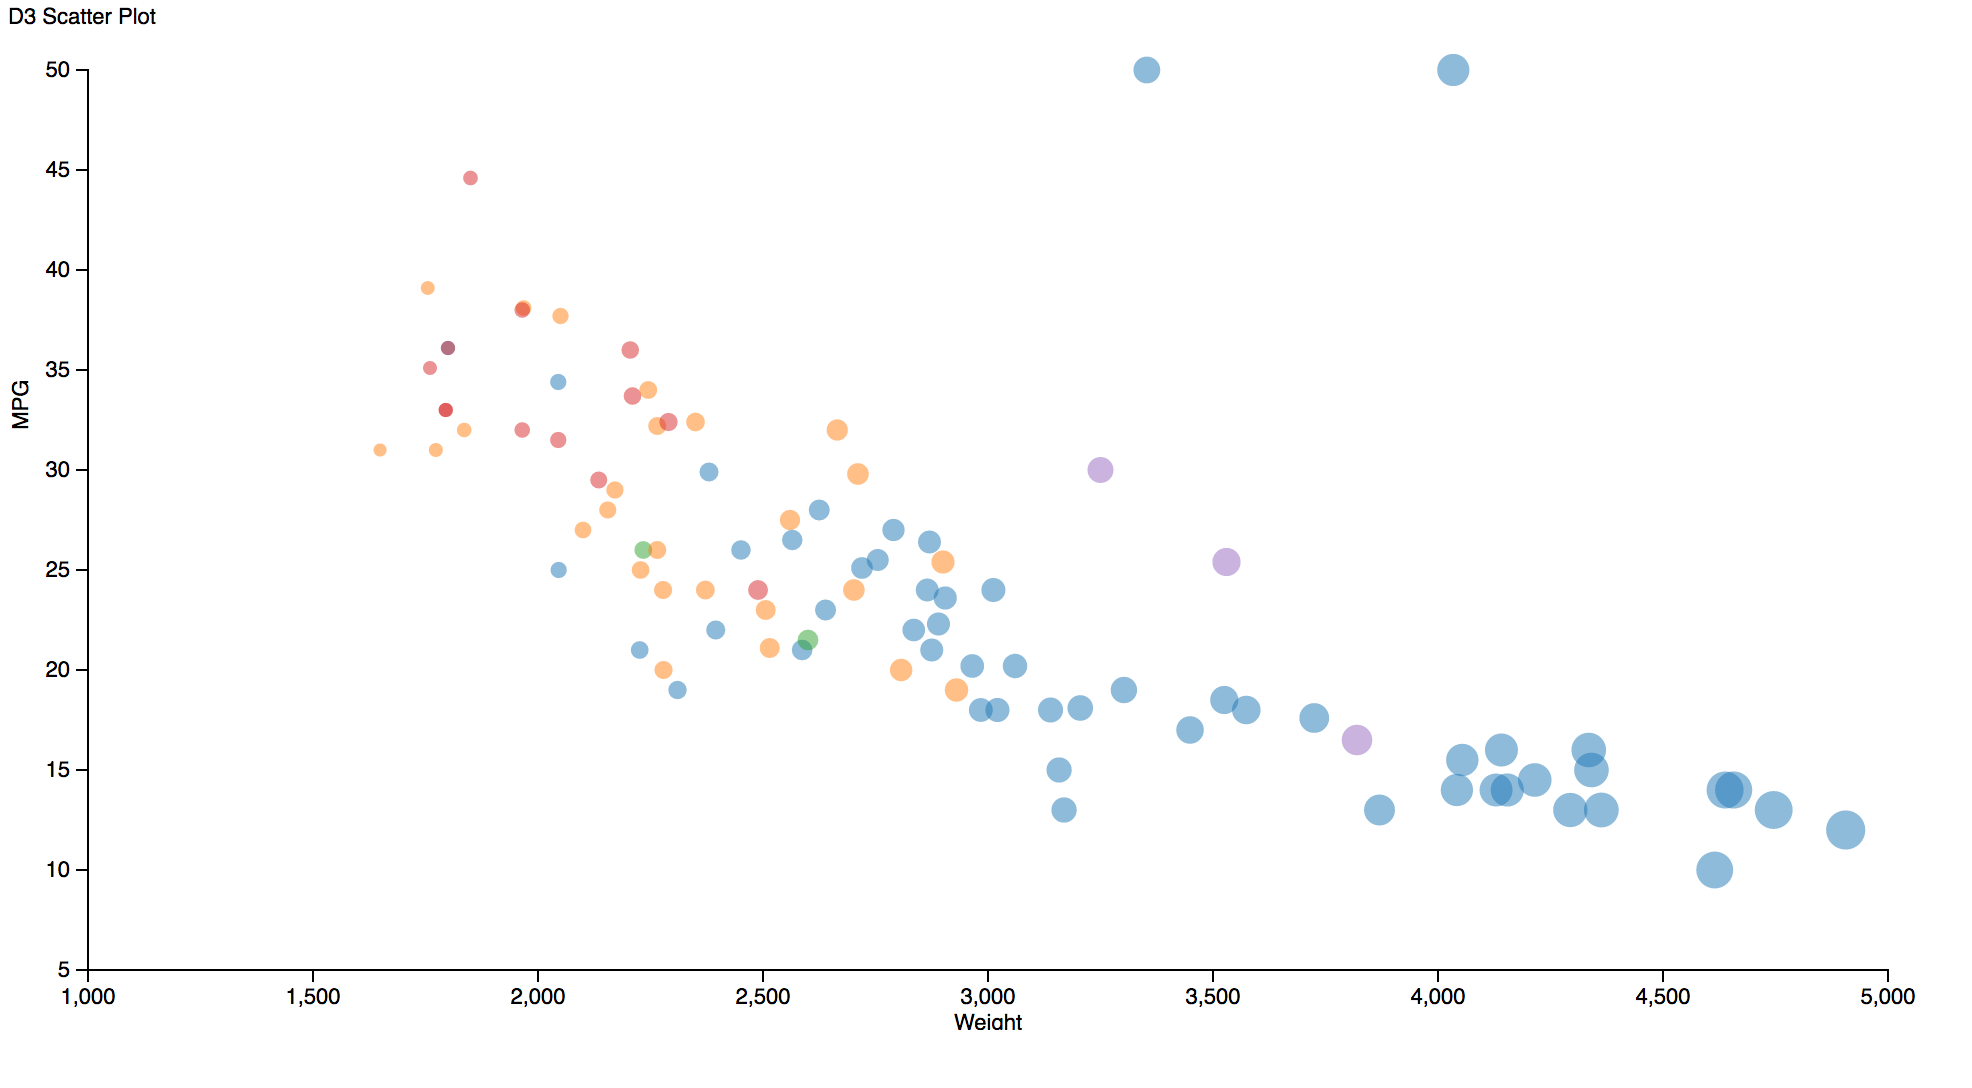

What the dashboard file says about the page in this screenshot:
{"tool":"tableau","page":{"name":"Dashboard 1","canvas":[1000,800],"ordinal":0},"visuals":[{"type":"worksheet","title":"Sheet 1","mark":"Circle","rows":["MPG"],"cols":["Weight"],"box":[0,0,840,800]},{"type":"legend","title":"Sheet 1","param":"[textscan.14h8h6g1ua10101g5851s1sy8clt].[none:Manufacturer:nk]","box":[840,0,160,134]},{"type":"legend","title":"Sheet 1","param":"[textscan.14h8h6g1ua10101g5851s1sy8clt].[none:Weight:qk]","box":[840,134,160,110]}]}

Visuals, with their boxes on the page's 1000x800 design canvas (x1, y1, x2, y2). These are canvas units, not pixel positions in the 1972x1088 screenshot, which may show the page scaled, cropped or inside an application window:
"Sheet 1" worksheet (Circle marks): x1=0 y1=0 x2=840 y2=800
"Sheet 1" legend: x1=840 y1=0 x2=1000 y2=134
"Sheet 1" legend: x1=840 y1=134 x2=1000 y2=244
